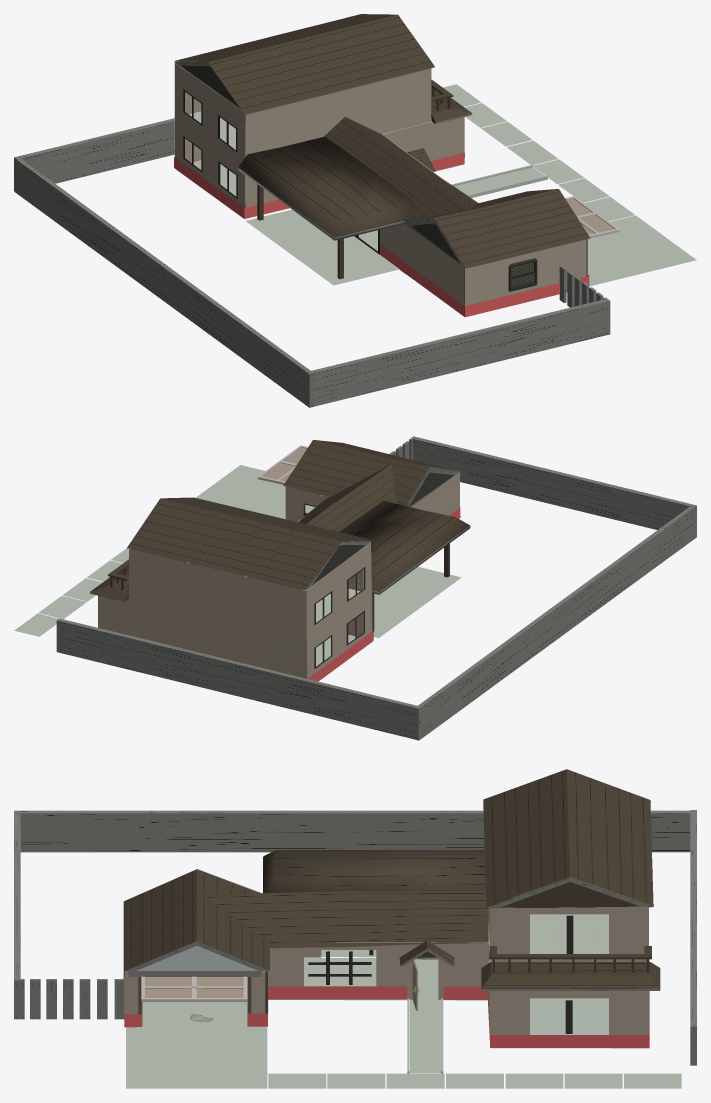
The model's file is fachada.obj.
The picture shows the model from 3 angles, top to bottom: view 1: azimuth 30°, elevation 25°; view 2: azimuth 150°, elevation 25°; view 3: azimuth 270°, elevation 25°; orthographic projection. The views are drawn at different scales.
Parts seen in each view (by area): view 1: Ceiling, Fence_Cube.002, HouseWall_Wall.002, Floor, BackyardRoof_Cube.001, Brick-Red_Plane.017, GarageWall_Wall, Balcony_Cube, Windows_Window_Plane.001, GarageDoor_Wall.004, InteriorWood_Wood; view 2: Fence_Cube.002, HouseWall_Wall.002, Ceiling, Floor, BackyardRoof_Cube.001, Balcony_Cube, GarageWall_Wall, GarageDoor_Wall.004, Windows_Window_Plane.001, Brick-Red_Plane.017; view 3: Ceiling, Floor, Fence_Cube.002, HouseWall_Wall.002, BackyardRoof_Cube.001, Balcony_Cube, Brick-Red_Plane.017, GarageDoor_Wall.004, Windows_Window_Plane.001, GarageWall_Wall.
Part boxes in pixels (x1=…): Ceiling: x1=174, y1=14, x2=589, y2=268; Fence_Cube.002: x1=14, y1=118, x2=610, y2=407; HouseWall_Wall.002: x1=174, y1=62, x2=464, y2=308; Floor: x1=175, y1=63, x2=696, y2=317; BackyardRoof_Cube.001: x1=238, y1=136, x2=415, y2=279; Brick-Red_Plane.017: x1=174, y1=153, x2=589, y2=317; GarageWall_Wall: x1=407, y1=226, x2=587, y2=316; Balcony_Cube: x1=431, y1=79, x2=472, y2=123; Windows_Window_Plane.001: x1=183, y1=89, x2=379, y2=254; GarageDoor_Wall.004: x1=565, y1=196, x2=619, y2=238; InteriorWood_Wood: x1=463, y1=239, x2=586, y2=316; Fence_Cube.002: x1=56, y1=436, x2=696, y2=740; HouseWall_Wall.002: x1=98, y1=471, x2=459, y2=678; Ceiling: x1=127, y1=440, x2=459, y2=590; Floor: x1=14, y1=465, x2=461, y2=666; BackyardRoof_Cube.001: x1=339, y1=500, x2=470, y2=631; Balcony_Cube: x1=90, y1=559, x2=128, y2=601; GarageWall_Wall: x1=285, y1=474, x2=455, y2=521; GarageDoor_Wall.004: x1=257, y1=445, x2=307, y2=484; Windows_Window_Plane.001: x1=314, y1=567, x2=365, y2=668; Brick-Red_Plane.017: x1=308, y1=507, x2=460, y2=681; Ceiling: x1=123, y1=769, x2=653, y2=976; Floor: x1=126, y1=914, x2=681, y2=1088; Fence_Cube.002: x1=14, y1=810, x2=696, y2=1065; HouseWall_Wall.002: x1=268, y1=907, x2=649, y2=1034; BackyardRoof_Cube.001: x1=263, y1=850, x2=485, y2=893; Balcony_Cube: x1=481, y1=946, x2=660, y2=990; Brick-Red_Plane.017: x1=124, y1=986, x2=649, y2=1047; GarageDoor_Wall.004: x1=141, y1=976, x2=247, y2=1001; Windows_Window_Plane.001: x1=308, y1=915, x2=596, y2=1033; GarageWall_Wall: x1=124, y1=971, x2=265, y2=1026.
Bounding box in the file's own units: 33.02 × 9.91 × 38.75.
8 materials, 8 textured.
